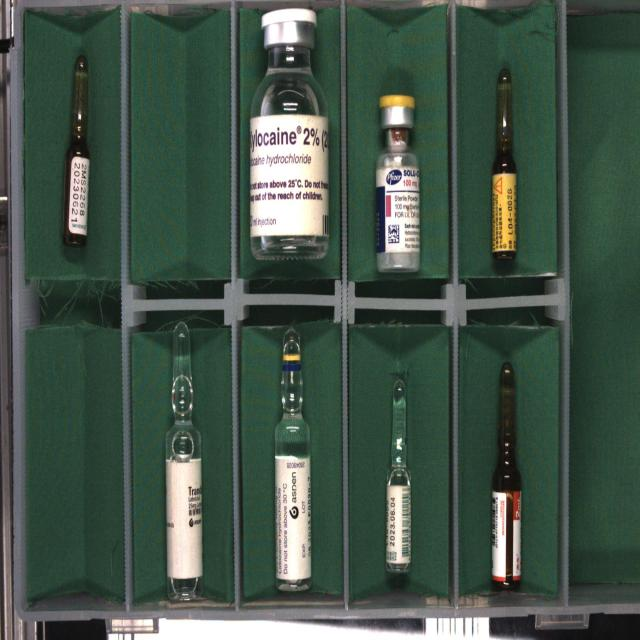Vials: (250, 9, 328, 260), (376, 94, 419, 272)
